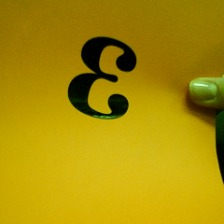orange3: (65, 32, 140, 125)
